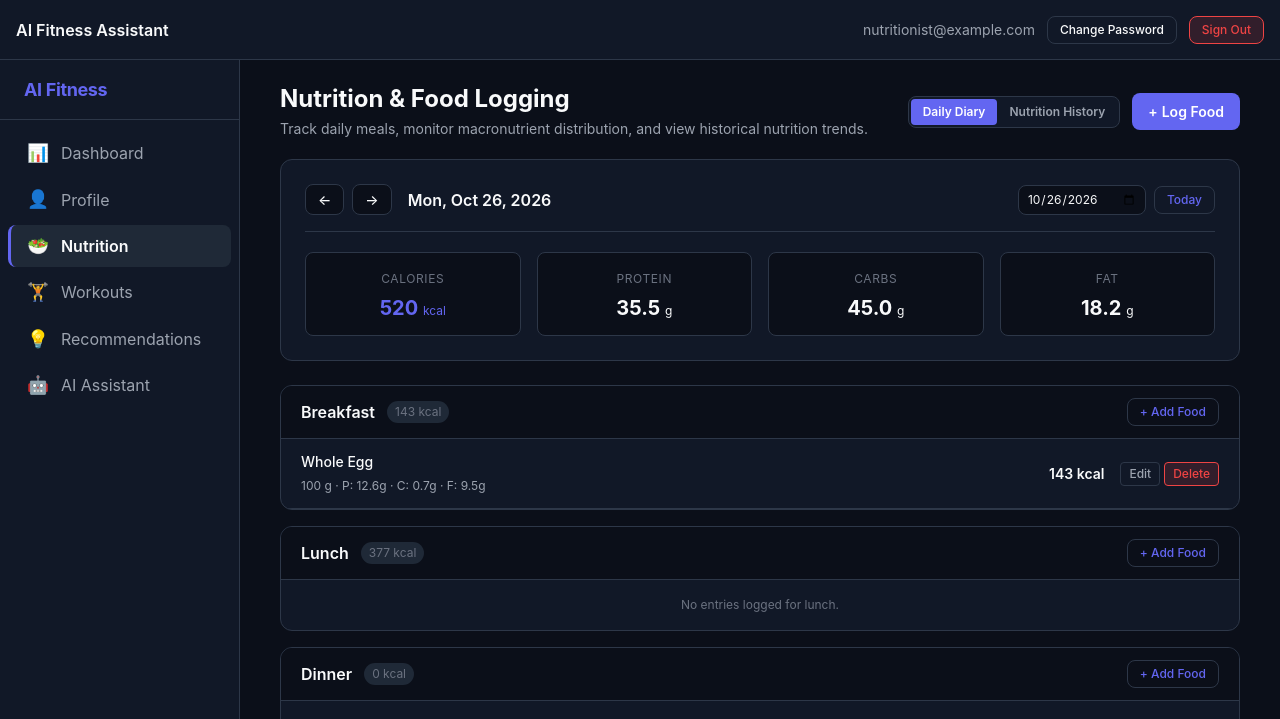
Test case: Phase 8E — Nutrition & Food Logging Tests › 7. food detail selection loads food details and available servings
Click the button "+ Log Food" at (1186, 112), box [1132, 93, 1240, 130]
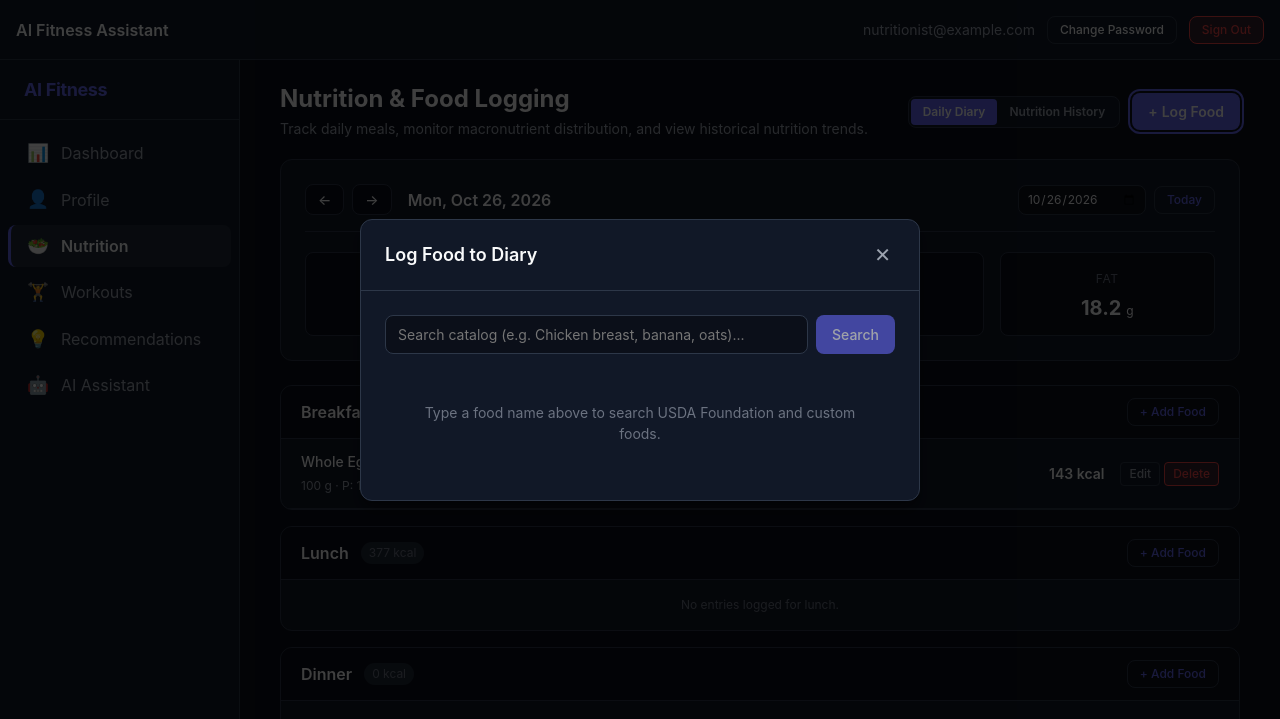
Type "egg" into the field named "search food catalog" at (596, 334), box [385, 315, 808, 354]
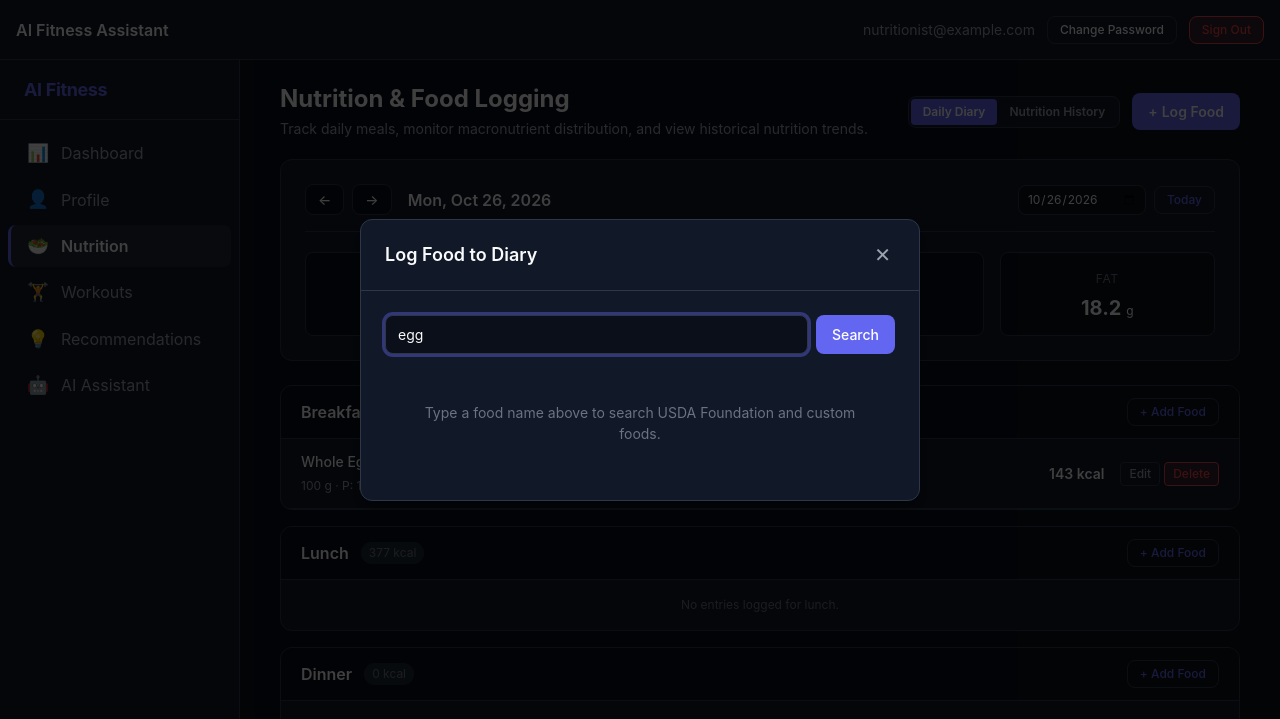
Click the button "Search" at (856, 334), box [816, 315, 895, 354]
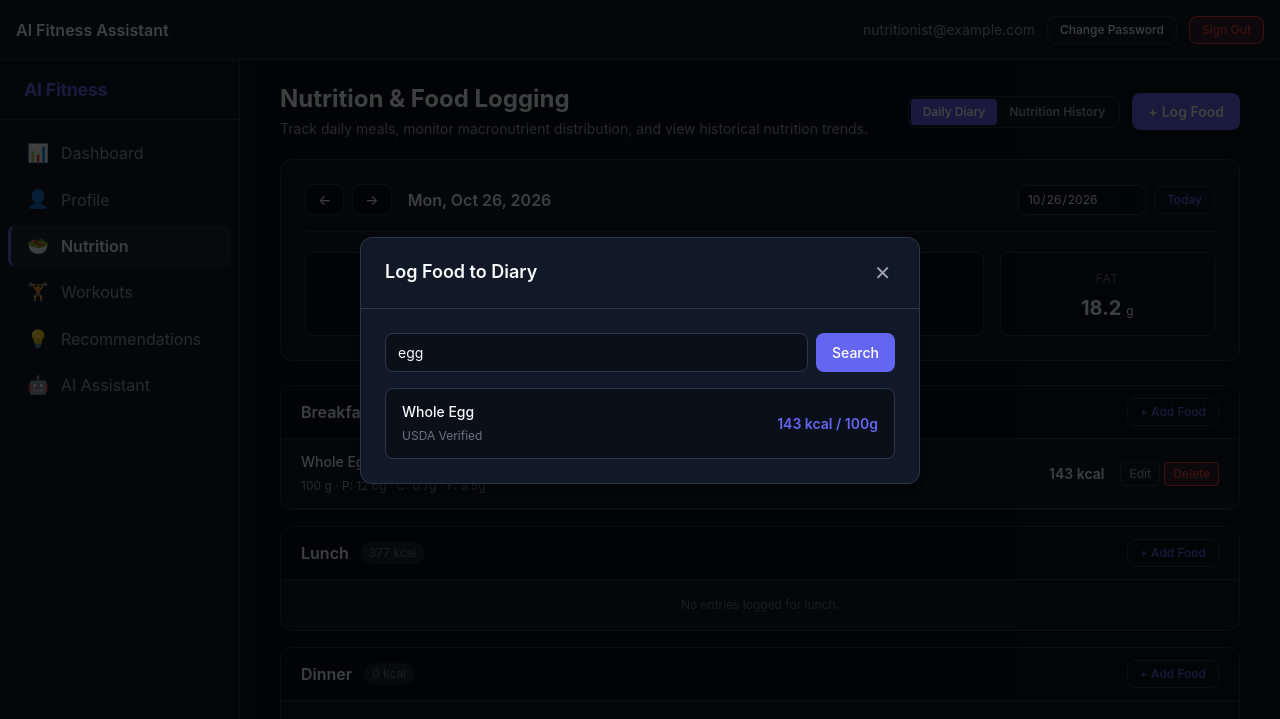
Expected: the text "Whole Egg" is shown
Note: Click the food item in the modal
Click the text "Whole Egg" at (442, 411), box [402, 400, 482, 422]
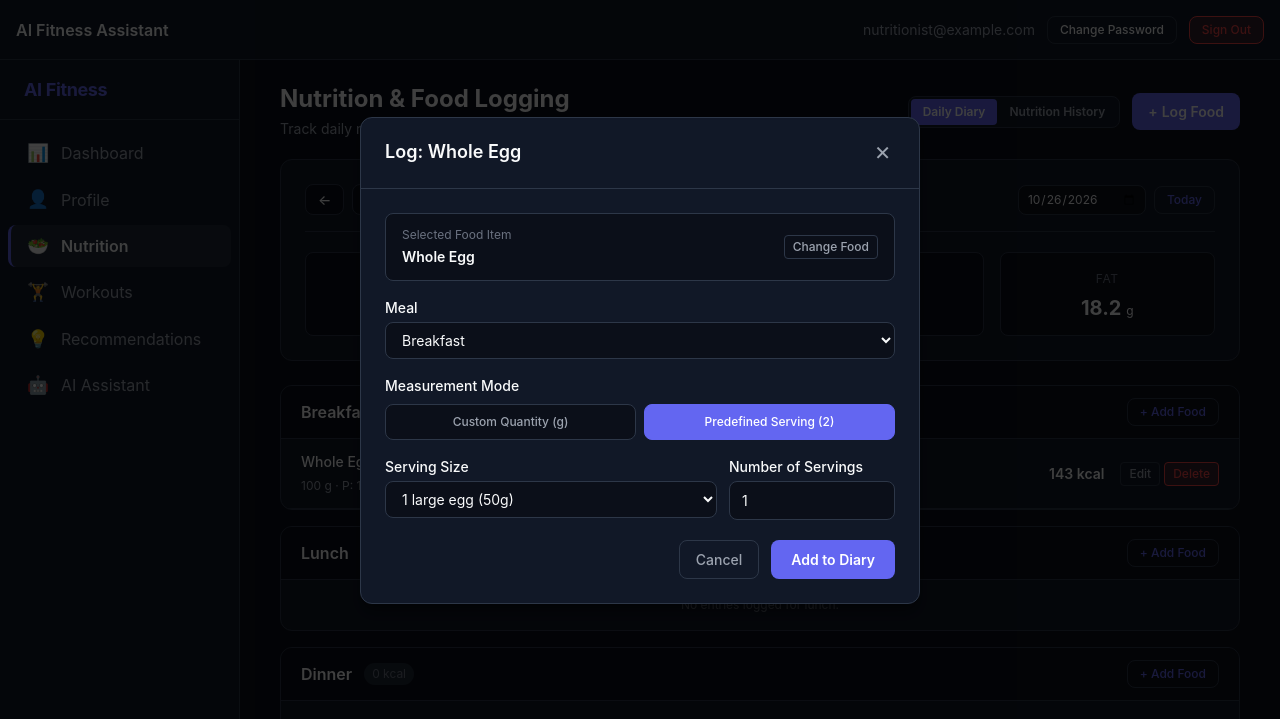
Expected: the heading "Log: Whole Egg" is shown, [385, 141, 521, 164]
Expected: the button "Predefined Serving (2)" is shown, [644, 404, 895, 440]
Expected: the button "Custom Quantity (g)" is shown, [385, 404, 636, 440]
